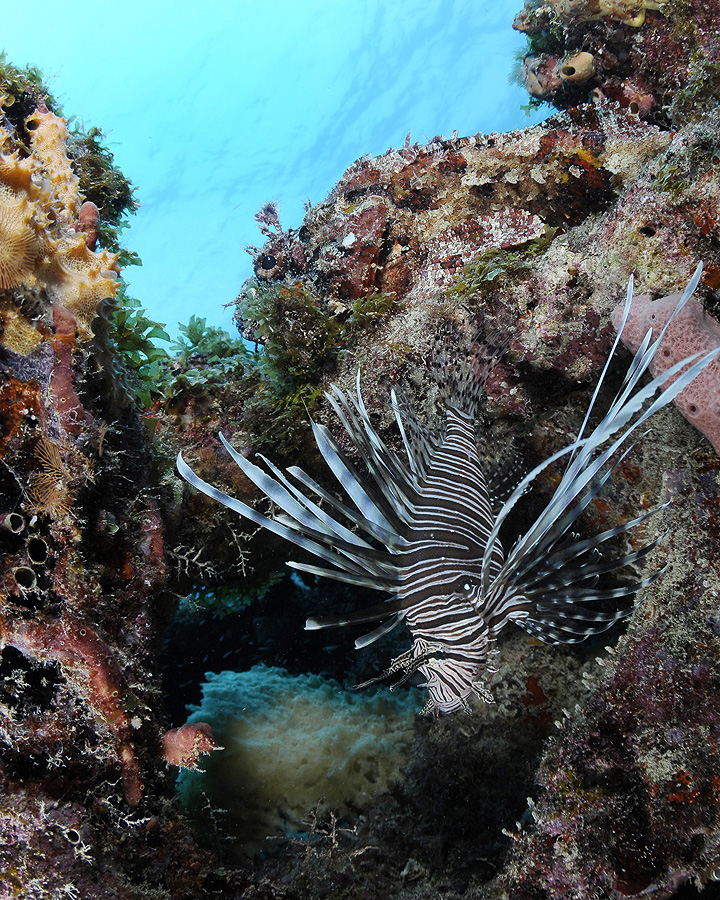Pterois_volitans: (184, 364, 674, 719)
